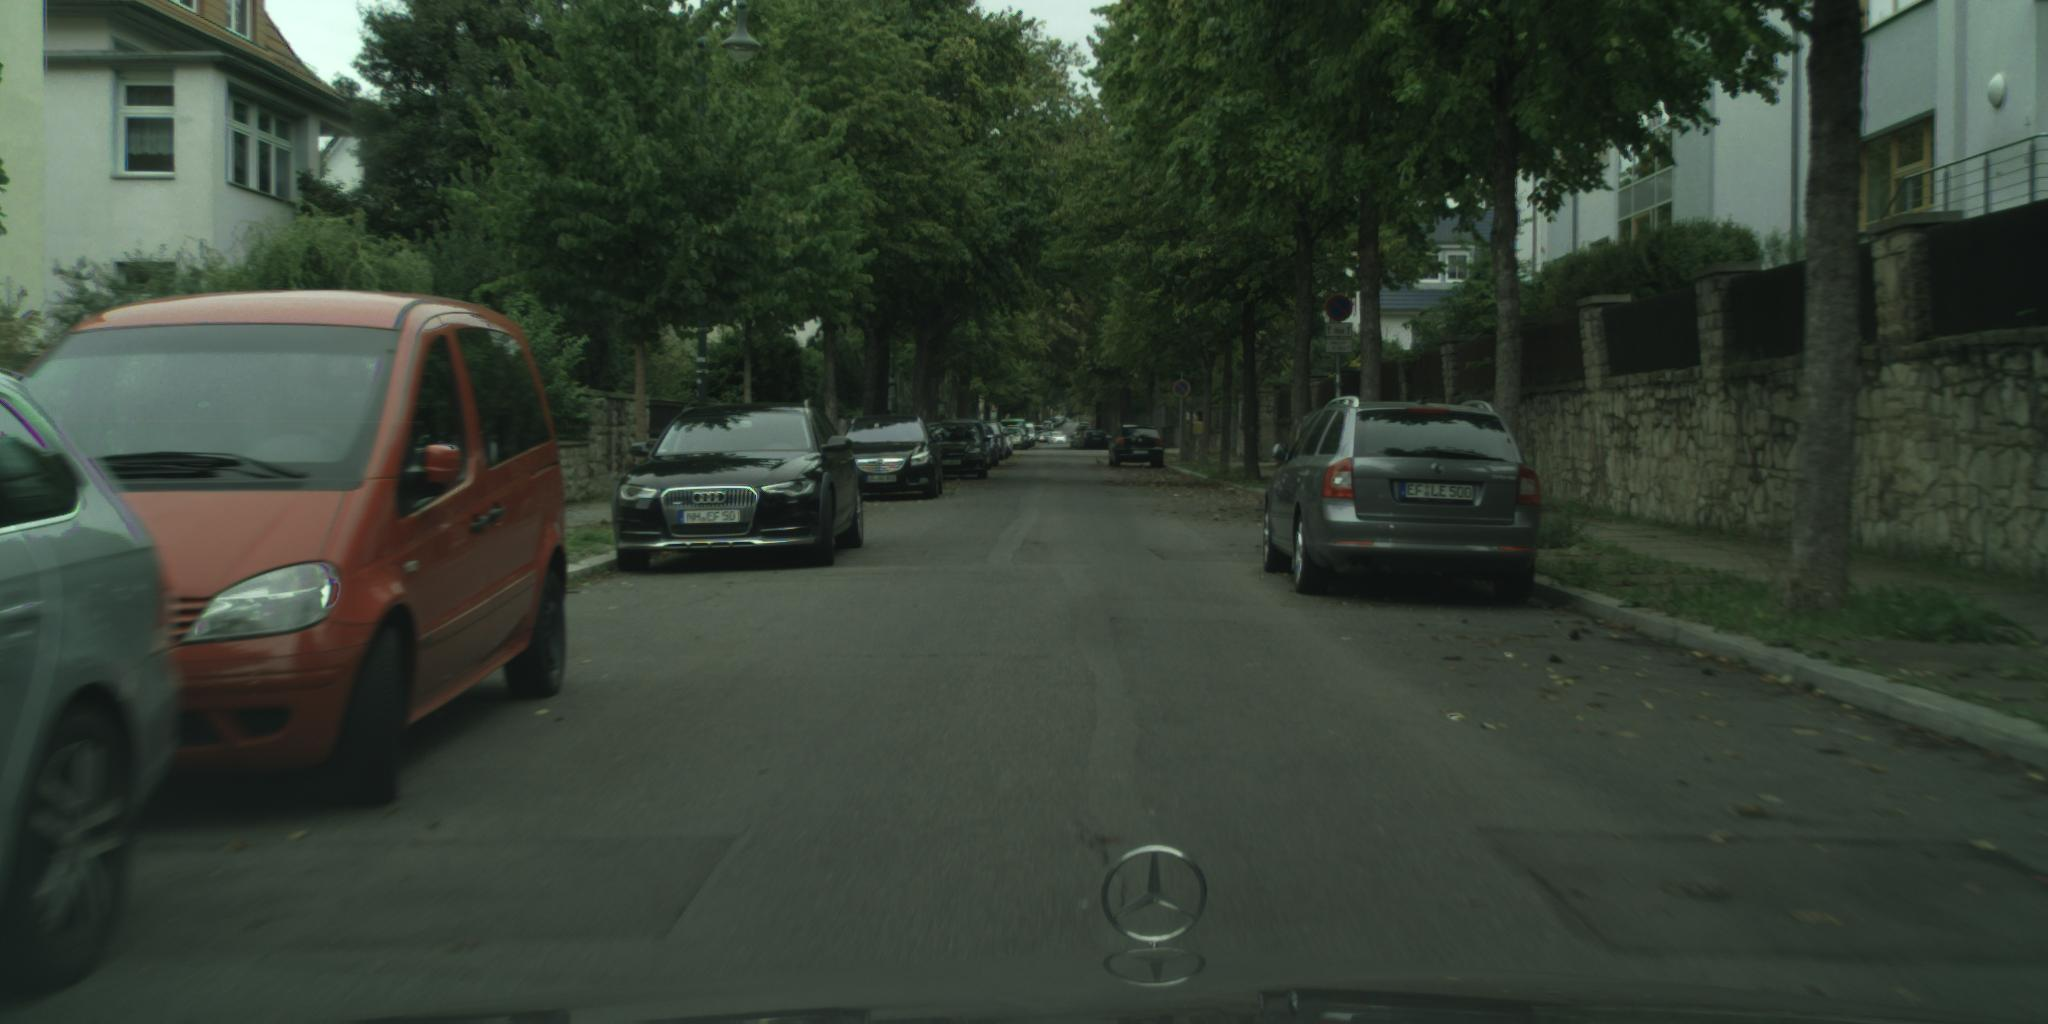car: (10, 289, 569, 810), (1, 371, 185, 1000), (1264, 394, 1543, 606), (613, 400, 866, 573), (839, 413, 947, 502), (920, 421, 991, 481), (1108, 424, 1165, 473), (980, 424, 1002, 472), (984, 422, 1007, 465), (994, 422, 1015, 457), (1050, 431, 1068, 445)
